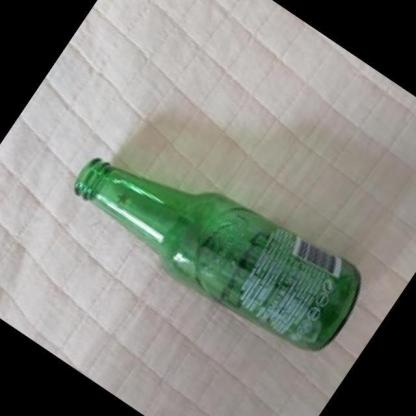Can: (74, 156, 361, 351)
